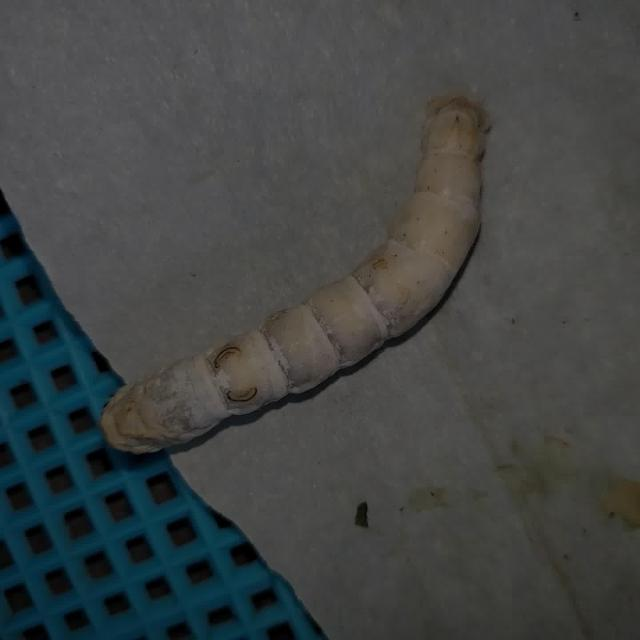Grasserie: (95, 79, 508, 516)
